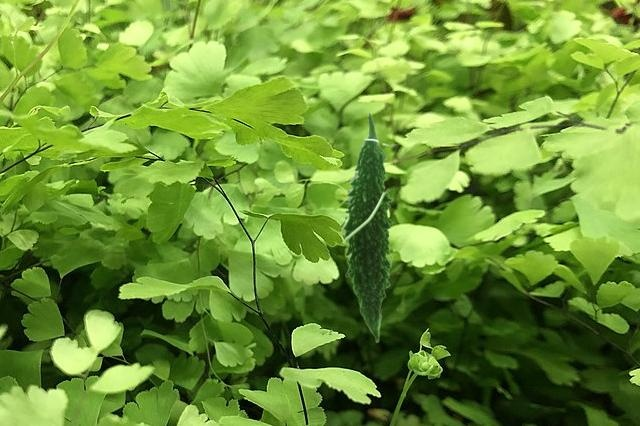ampalaya: (339, 112, 400, 343)
